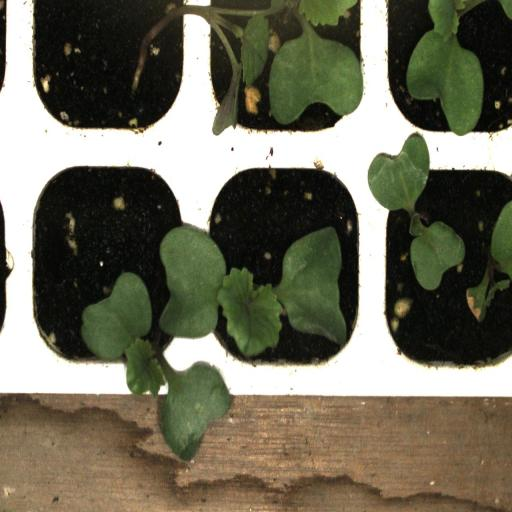askew: (14, 0, 197, 140)
seedling: (15, 142, 197, 385), (196, 143, 376, 382)
twoseedling: (375, 138, 512, 380)
